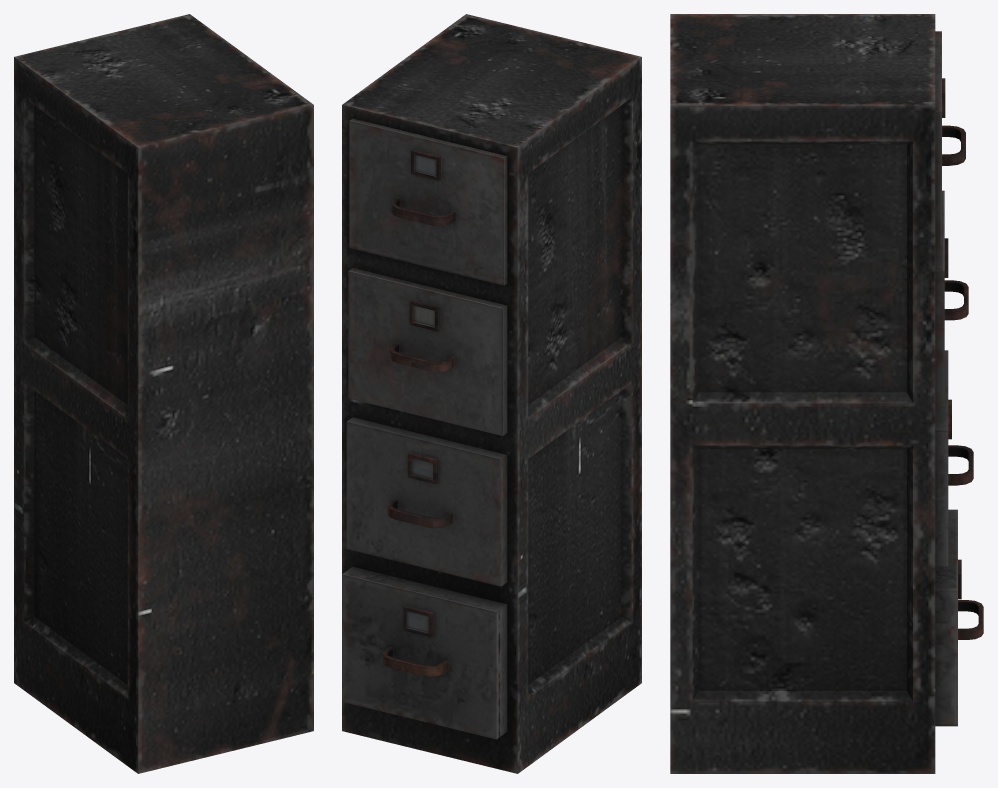
Rendered from SingleCab_02.FBX.
3 views of the same model, side by side, from view 1: azimuth 30°, elevation 25°; view 2: azimuth 150°, elevation 25°; view 3: azimuth 270°, elevation 25° (orthographic). The views are drawn at different scales.
Visible parts, largest first — view 1: SingleCab_02; view 2: SingleCab_02; view 3: SingleCab_02.
Boxes of the visible parts, x1=… form: SingleCab_02: x1=14, y1=14, x2=313, y2=773; SingleCab_02: x1=342, y1=14, x2=641, y2=773; SingleCab_02: x1=670, y1=14, x2=983, y2=773.
Bounding box in the file's own units: 50.04 × 170 × 72.39.
